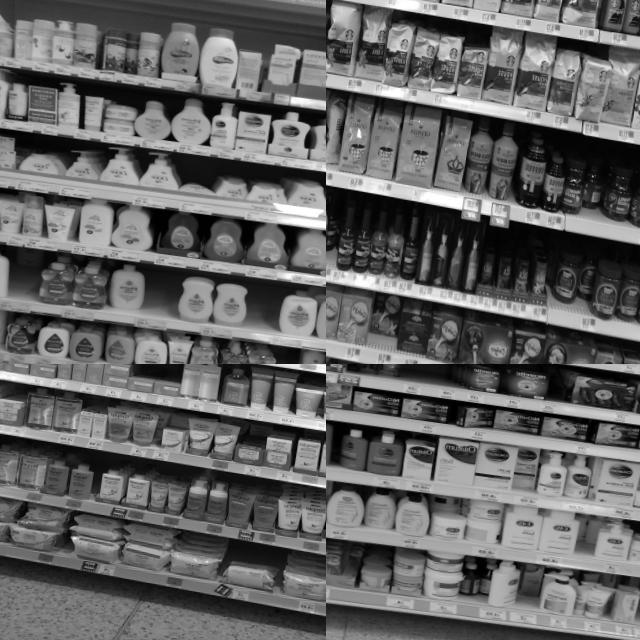100- O.O.S: (140, 266, 181, 331), (246, 280, 282, 344), (6, 263, 38, 313), (398, 364, 429, 395), (425, 364, 453, 398), (272, 350, 297, 364)
